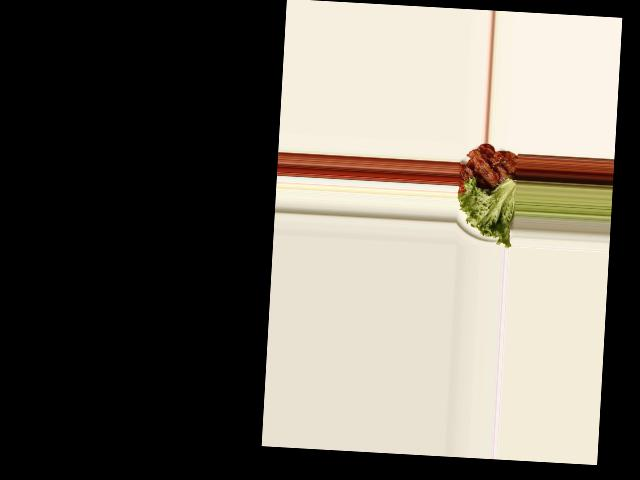lettuce: (456, 176, 517, 244)
